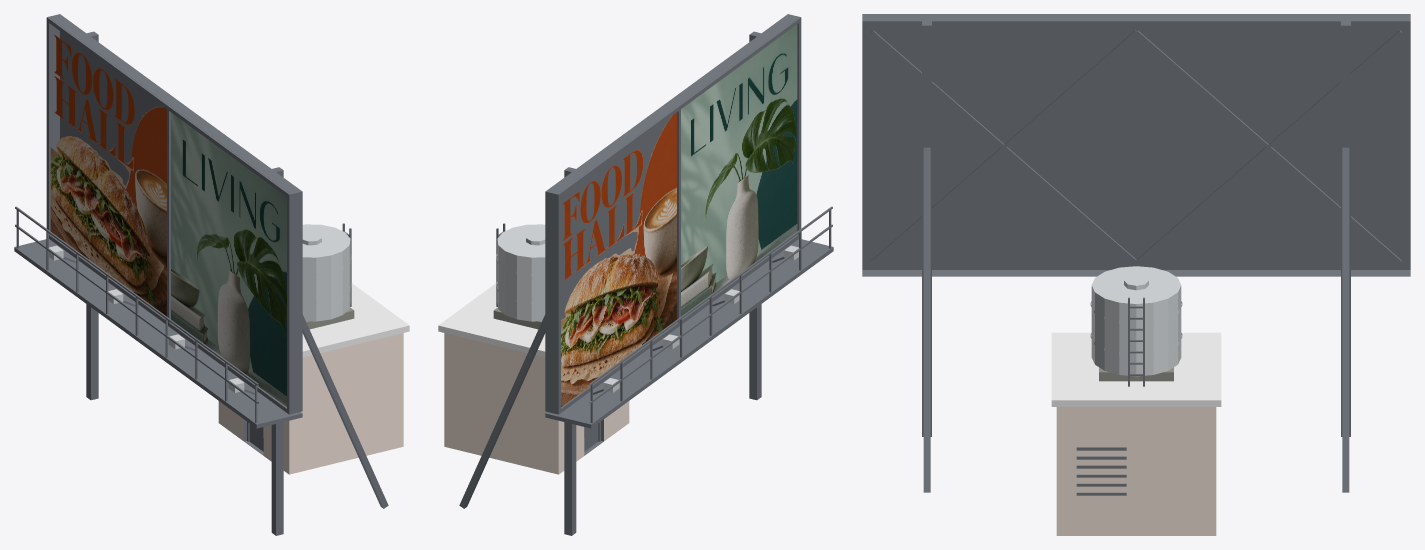
File: roofprop_close.fbx
3 renders of one model, left to right at view 1: azimuth 30°, elevation 25°; view 2: azimuth 150°, elevation 25°; view 3: azimuth 270°, elevation 25°, orthographic. The views are drawn at different scales.
Parts seen in each view (by area): view 1: a2011/300/roofprop_close; view 2: a2011/300/roofprop_close; view 3: a2011/300/roofprop_close.
Boxes of the visible parts, box(x1,y1,x2,y2) form: a2011/300/roofprop_close: box(14, 14, 409, 535); a2011/300/roofprop_close: box(438, 14, 833, 535); a2011/300/roofprop_close: box(862, 14, 1410, 535).
Size of the model in its own units: 6.2 by 9.1 by 11.
